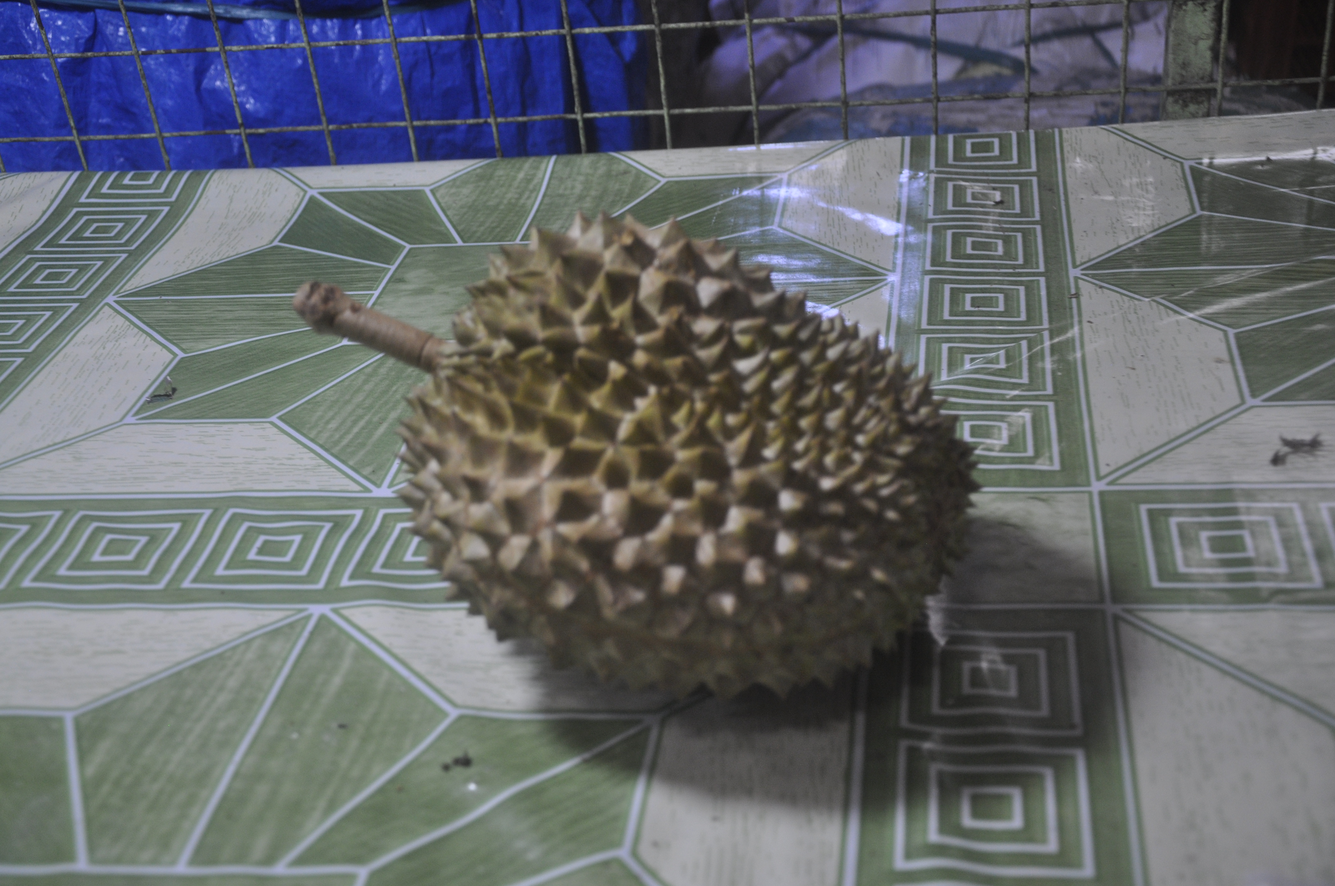mature: (294, 215, 978, 697)
